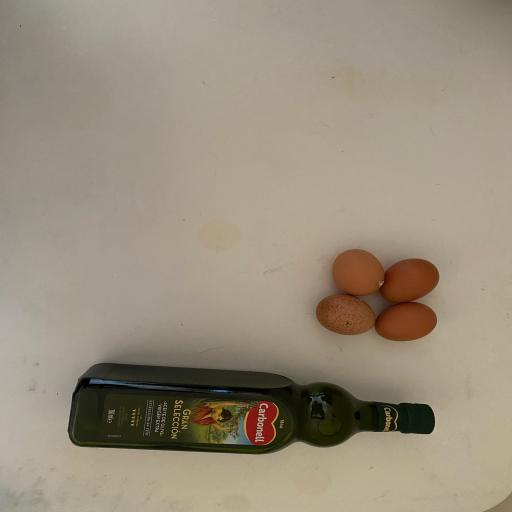egg: (363, 294, 448, 352), (378, 256, 454, 308), (310, 291, 379, 340), (330, 248, 384, 297)
olive_oil: (39, 355, 469, 479)
